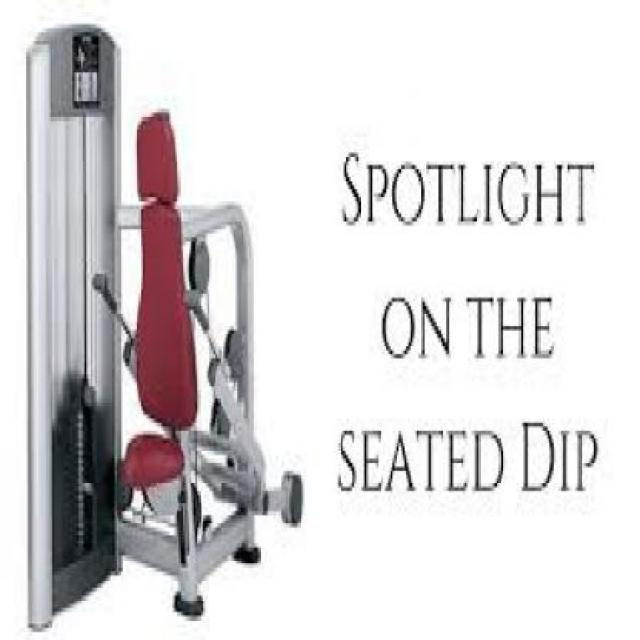seated dip machine: (25, 25, 303, 624)
